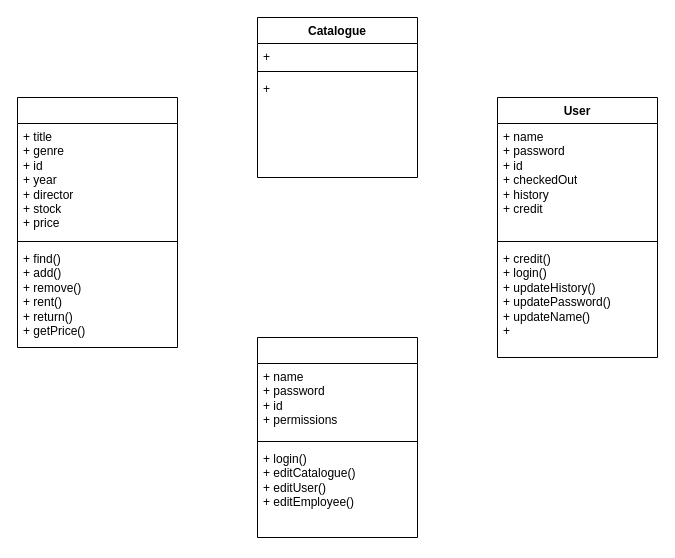
This 675x558 diagram has some shape labels left out. Here are the shapes that lost their labels. From the top down, the box of each, then its label:
(16, 96, 178, 348): Movie
(256, 336, 418, 538): Empoloyee
